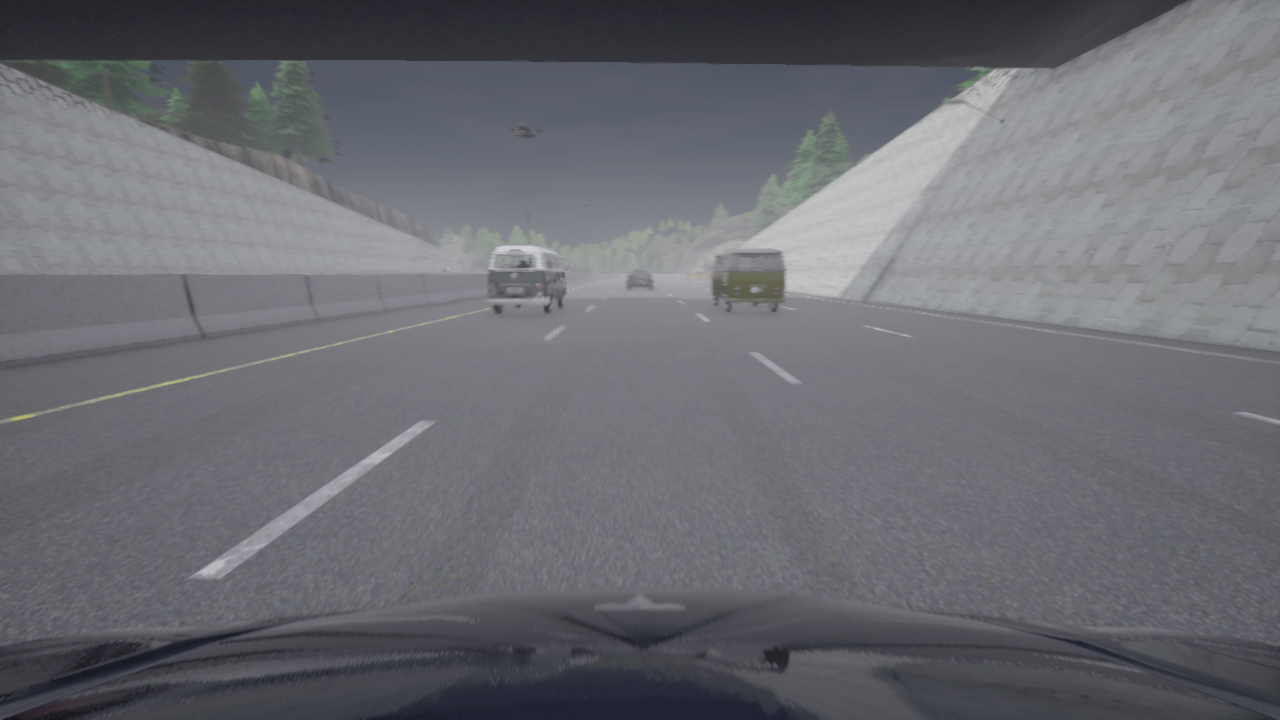cyclist: (0, 588, 1279, 719), (487, 244, 569, 313), (709, 248, 785, 311), (627, 271, 652, 289)
